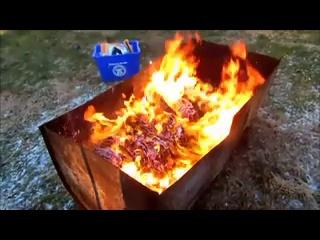fire: (98, 32, 262, 196)
